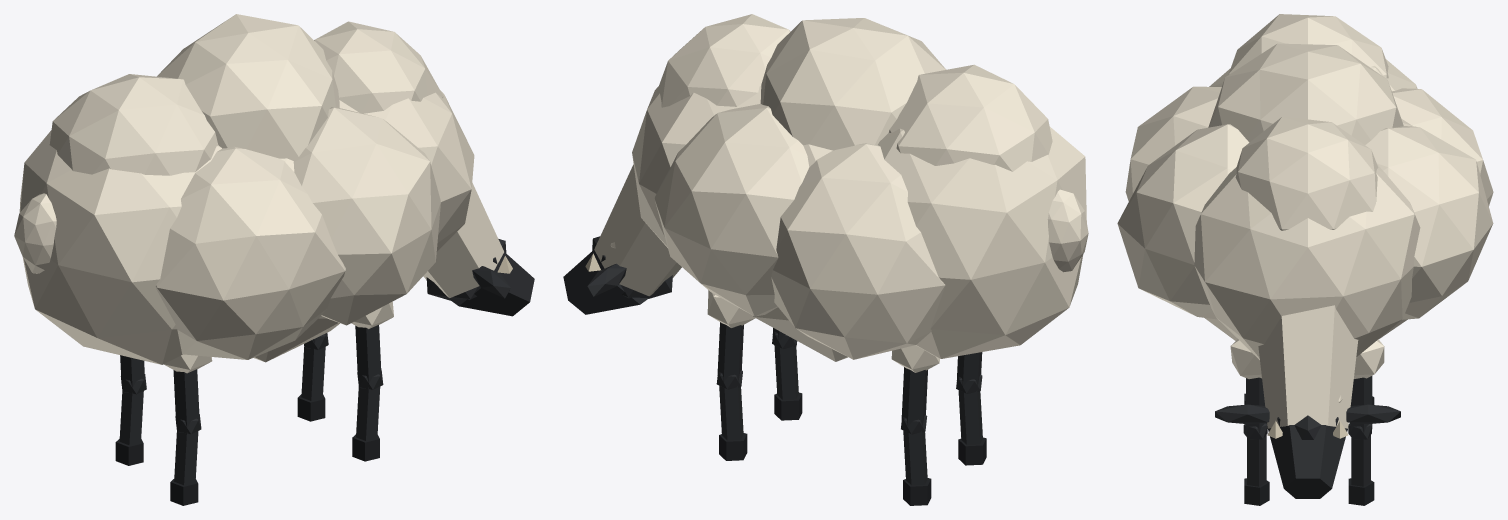
The model's file is far_2.glb.
3 renders of one model, left to right at view 1: azimuth 30°, elevation 25°; view 2: azimuth 150°, elevation 25°; view 3: azimuth 270°, elevation 25°, orthographic. The views are drawn at different scales.
Parts seen in each view (by area): view 1: far_2; view 2: far_2; view 3: far_2.
Part boxes in pixels (bbox=[...]): far_2: bbox=[14, 14, 534, 505]; far_2: bbox=[563, 14, 1088, 505]; far_2: bbox=[1117, 14, 1493, 505].
Bounding box in the file's own units: 1.4 × 1.12 × 0.9364.
